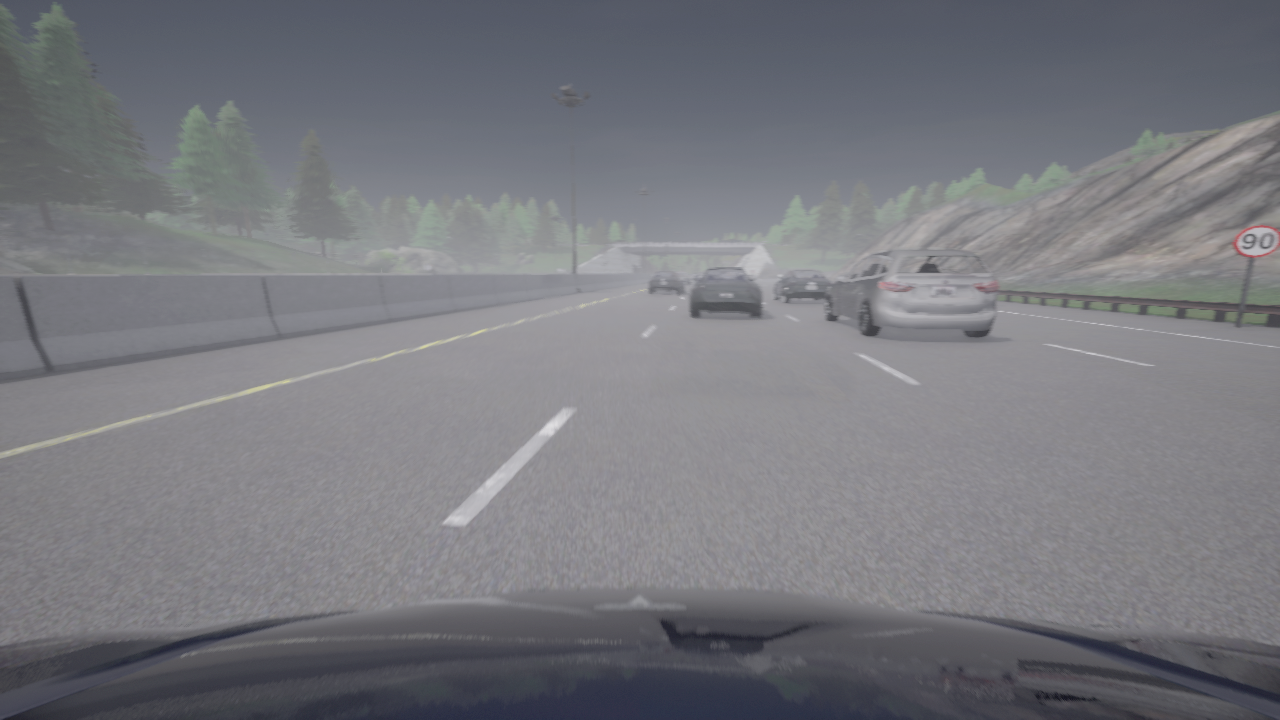cyclist: (0, 588, 1279, 719), (824, 249, 997, 337), (690, 268, 761, 316), (772, 269, 832, 303), (647, 271, 683, 294), (676, 271, 689, 283)
